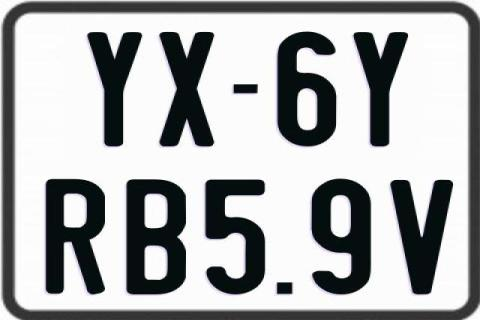0: (309, 178, 373, 294), (203, 180, 267, 295), (276, 32, 335, 150)
B: (127, 177, 188, 293)
R: (44, 177, 103, 293)
V: (390, 179, 455, 297)
X: (158, 32, 218, 148)
Y: (351, 30, 411, 146), (85, 31, 141, 147)
